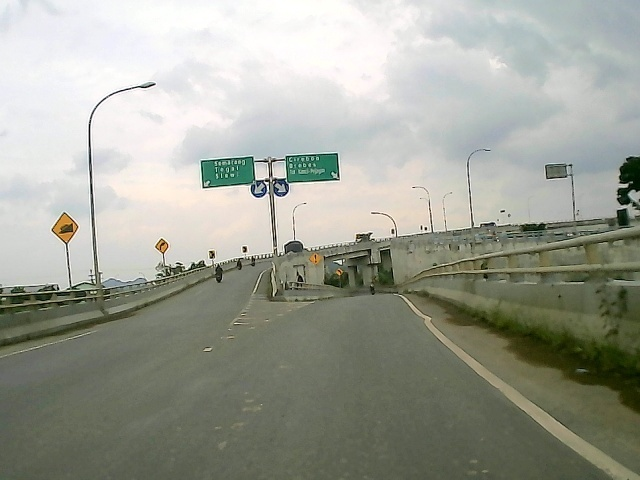Hati-hati: (307, 251, 323, 267)
Jalanan menanjak: (49, 212, 80, 244)
Tikungan ke kanan: (153, 236, 170, 254)
